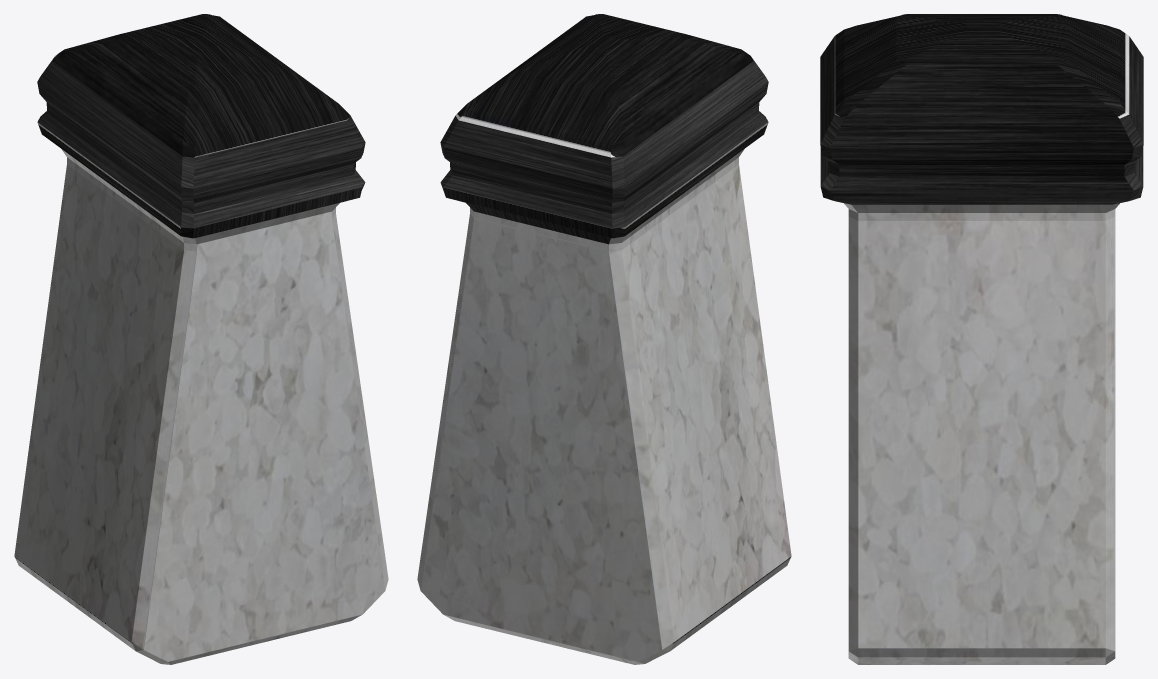
The model's file is Shaker.fbx.
The picture shows the model from 3 angles, left to right: view 1: azimuth 30°, elevation 25°; view 2: azimuth 150°, elevation 25°; view 3: azimuth 270°, elevation 25°; orthographic projection. The views are drawn at different scales.
Parts seen in each view (by area): view 1: Cube; view 2: Cube; view 3: Cube.
Boxes of the visible parts, x1,y1,x2,y2 form: Cube: [14, 14, 388, 664]; Cube: [417, 14, 791, 664]; Cube: [820, 14, 1143, 664].
Size of the model in its own units: 235 by 488 by 243.
